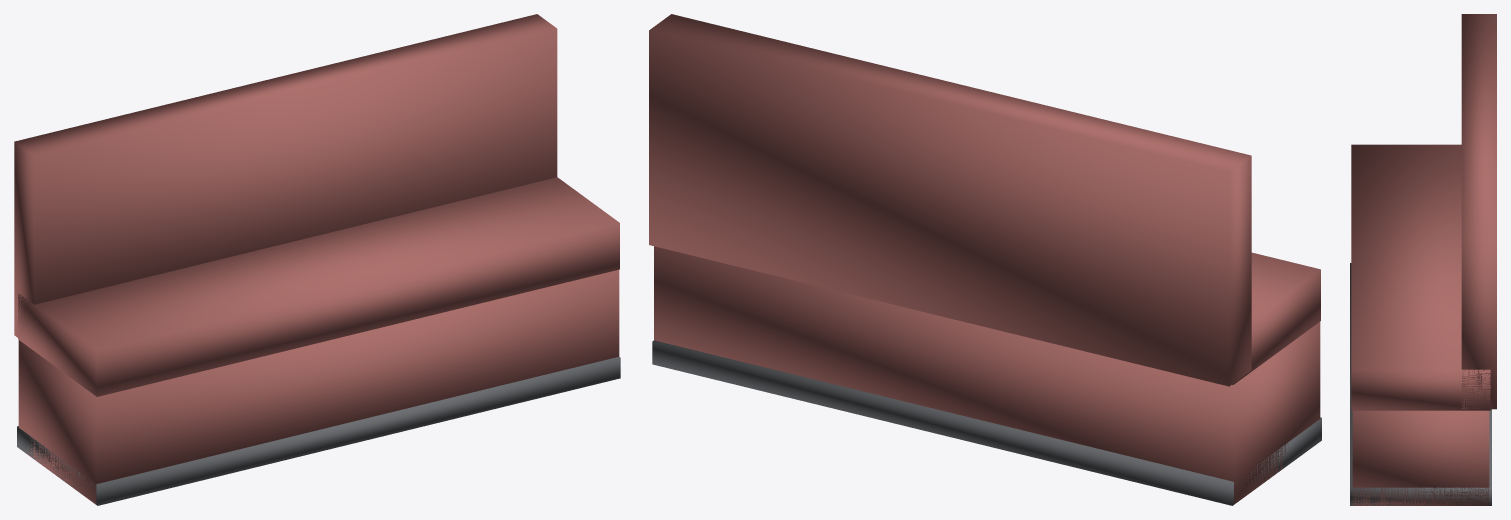
File: diner_booth_double__reinforced.glb
3 views of the same model, side by side, from view 1: azimuth 30°, elevation 25°; view 2: azimuth 150°, elevation 25°; view 3: azimuth 270°, elevation 25° (orthographic). The views are drawn at different scales.
Parts seen in each view (by area): view 1: world; view 2: world; view 3: world.
Boxes of the visible parts, bbox=[...] form: world: bbox=[14, 14, 620, 505]; world: bbox=[649, 14, 1321, 505]; world: bbox=[1350, 14, 1496, 505].
Bounding box in the file's own units: 2.16 × 1.2 × 0.5974.
